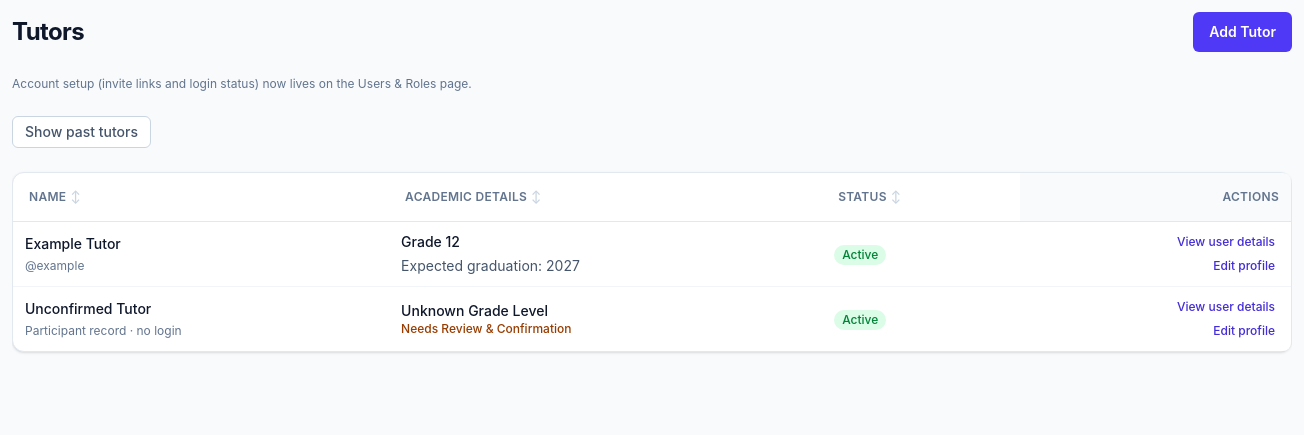
it: shows archived accountless tutors without a current academic or setup requirement
Check: the text "Historical Tutor" is not shown
What coordinates should you click on to do the following:
click the button "Show past tutors"
I would click on:
 (82, 132)
Its box is [12, 116, 151, 148].
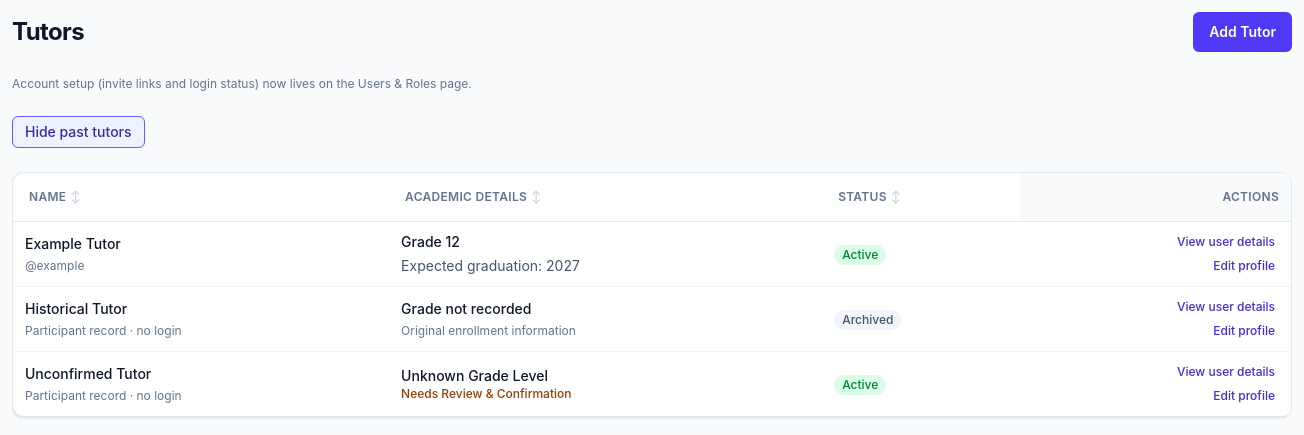
Check: the text "Participant record · no login" below "Historical Tutor" is shown, box [25, 323, 182, 338]
Check: the text "Grade not recorded" is shown, box [401, 300, 531, 317]
